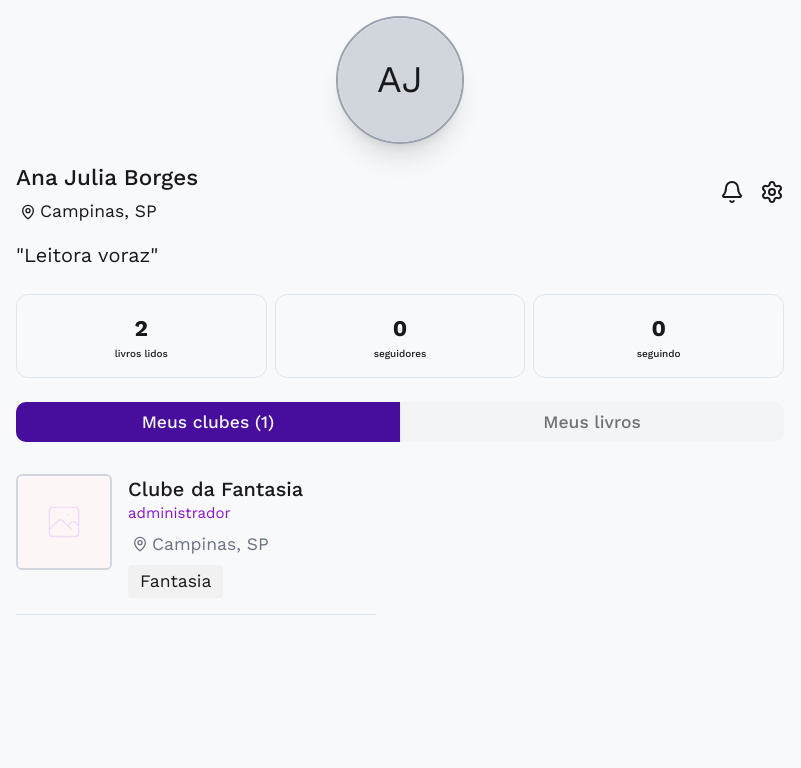
Test: Profile › filtra a lista ao trocar para a tag Lendo
Click the tab "Meus livros" at [592, 422], box [400,402,784,442]
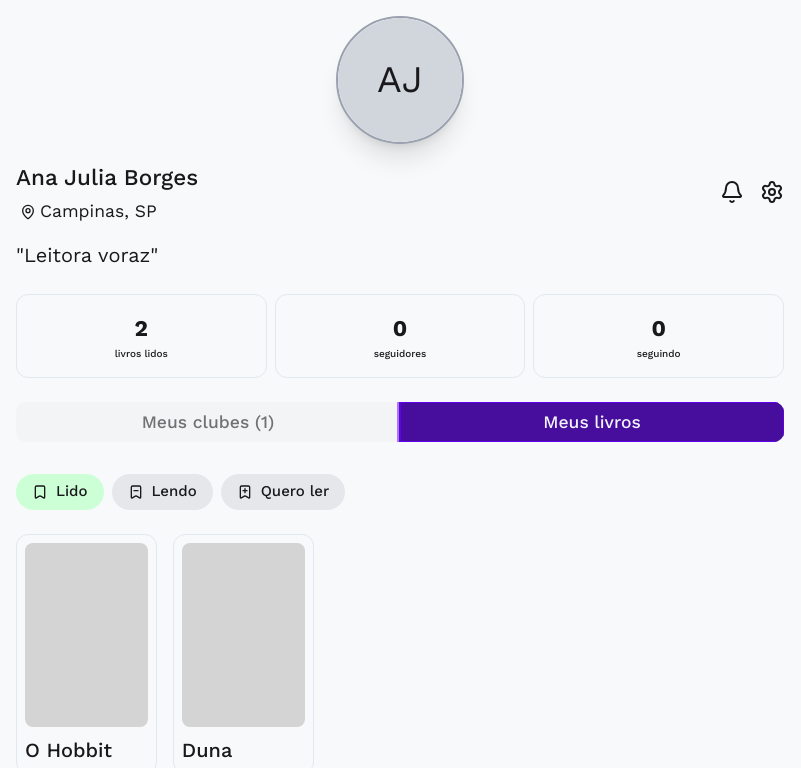
Click the text "Lendo" at [162, 492], box [112,474,213,510]
(page scrolled)
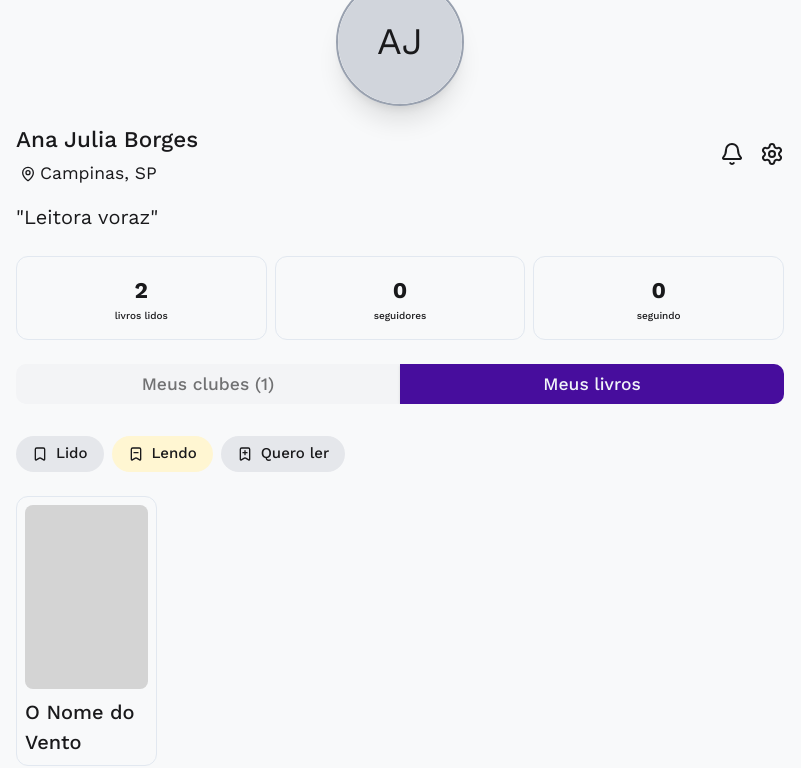
Now the text "O Nome do Vento" is shown, box [25,697,148,757]
Now the link "O Hobbit" is gone
